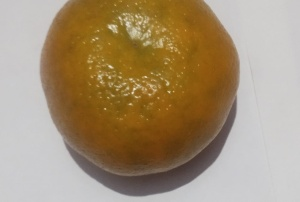BAD: (26, 1, 237, 167)
